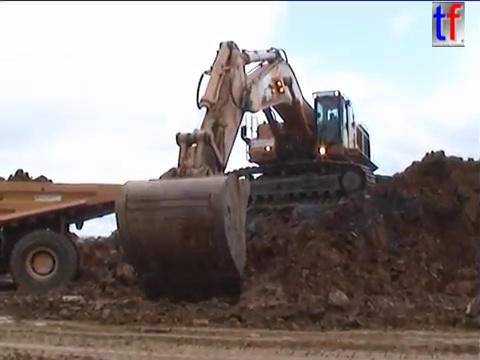excavator: (112, 38, 382, 307)
truck: (1, 176, 161, 301)
